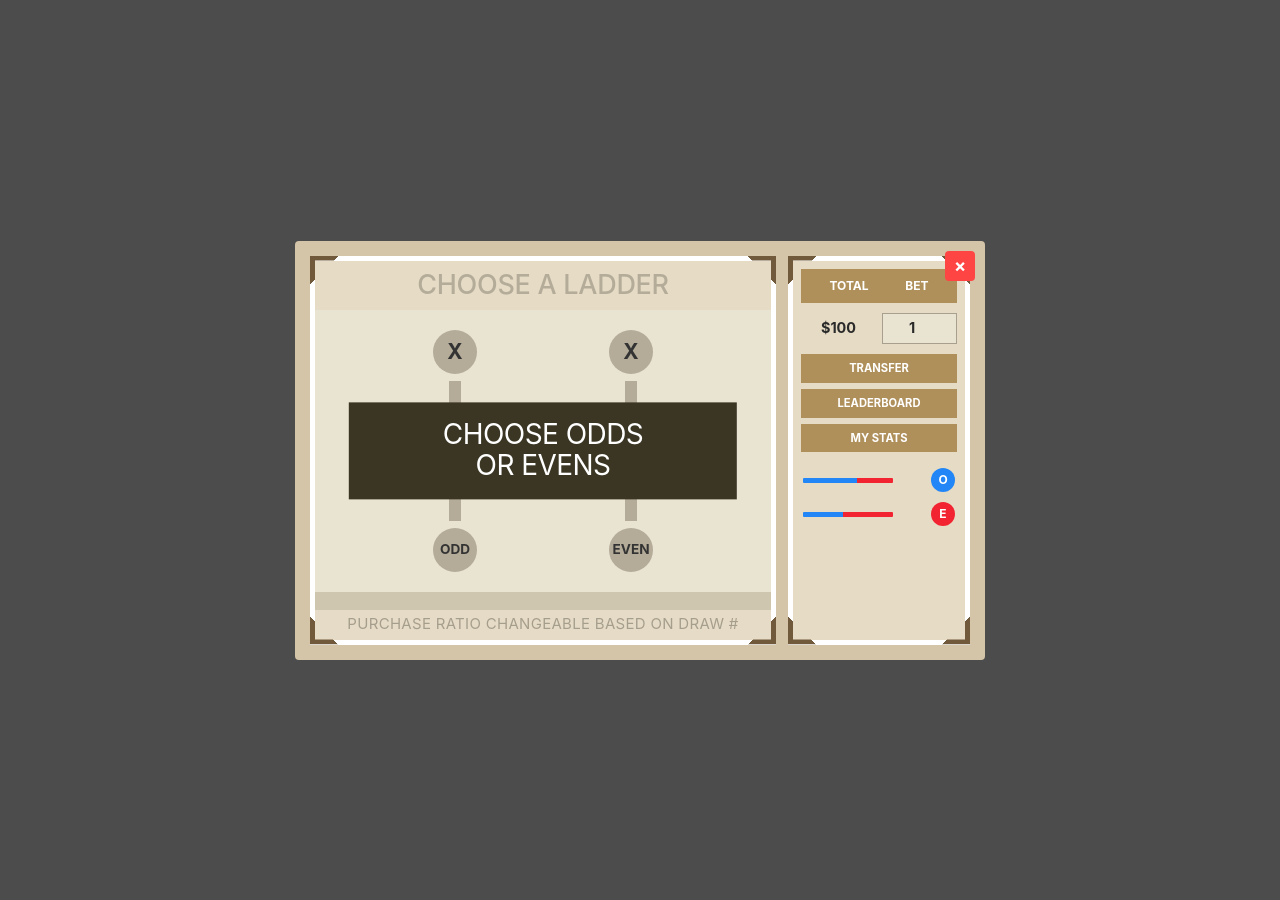
Test: LadderGame › selecting a side updates the instruction and unlocks ODD/EVEN
Click the 1st button "X" at [455, 352], box [433, 330, 477, 374]
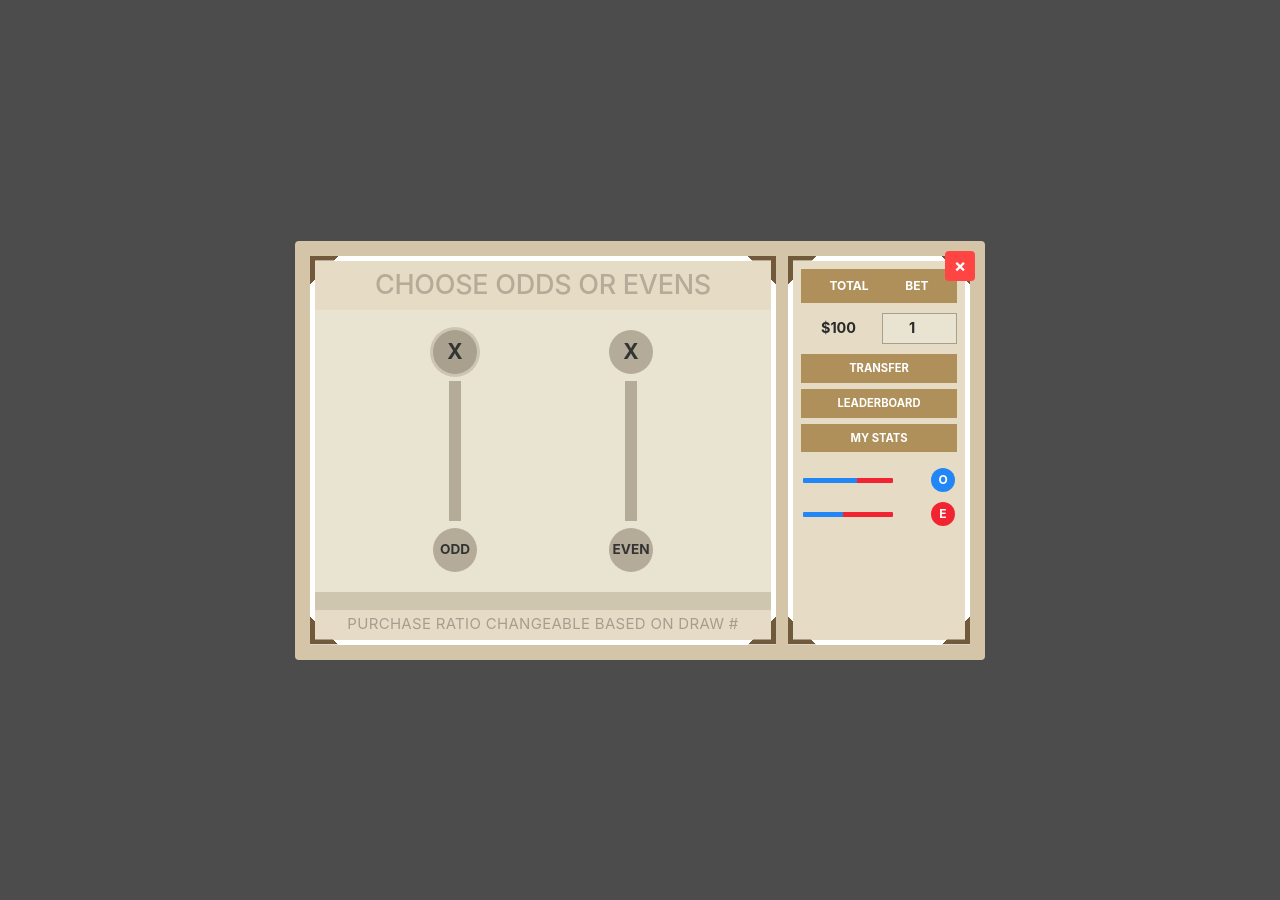
Expected: the button "ODD" is enabled, [433, 528, 477, 572]
Now the text "Choose odds or evens" is shown, box [375, 268, 711, 301]
Note: Clicking the same side again deselects
Click the 1st button "X" at [455, 352], box [433, 330, 477, 374]
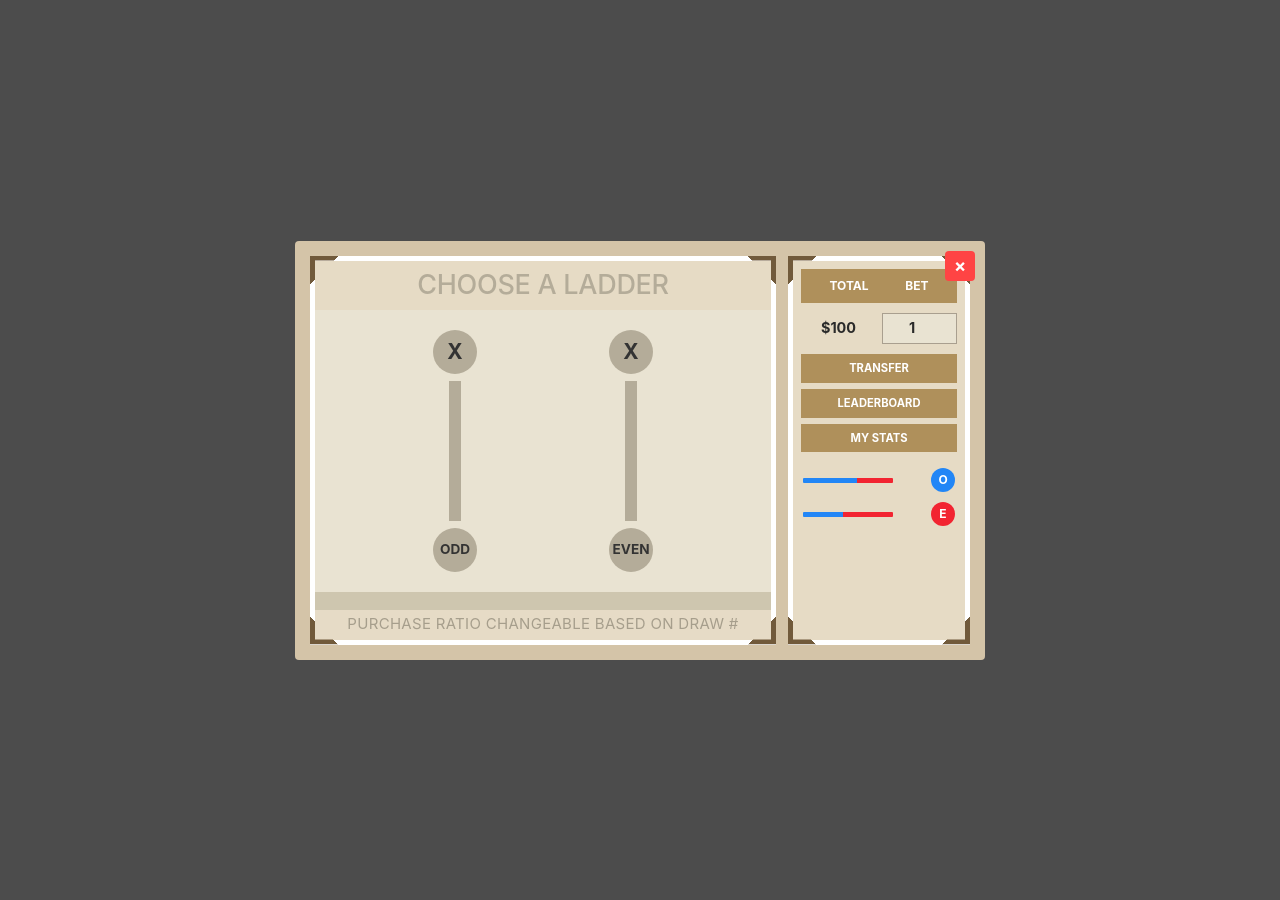
Expected: the button "ODD" is disabled, [433, 528, 477, 572]
Now the text "Choose a ladder" is shown, box [417, 268, 669, 301]
